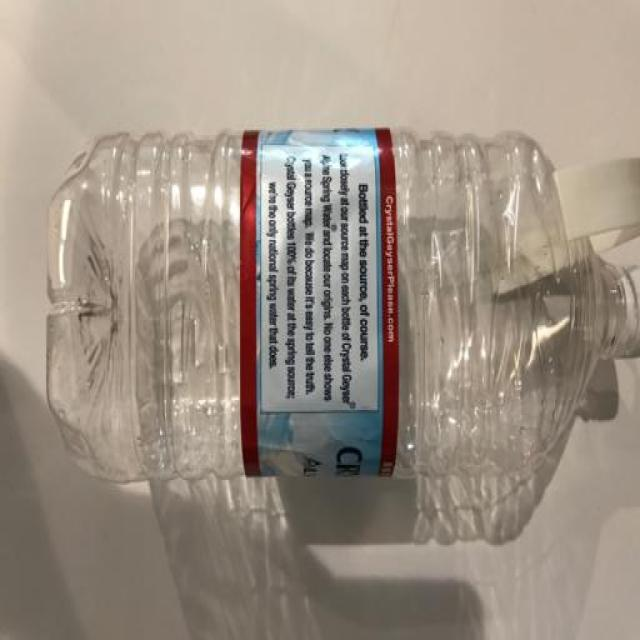Plastic: (45, 127, 640, 482)
